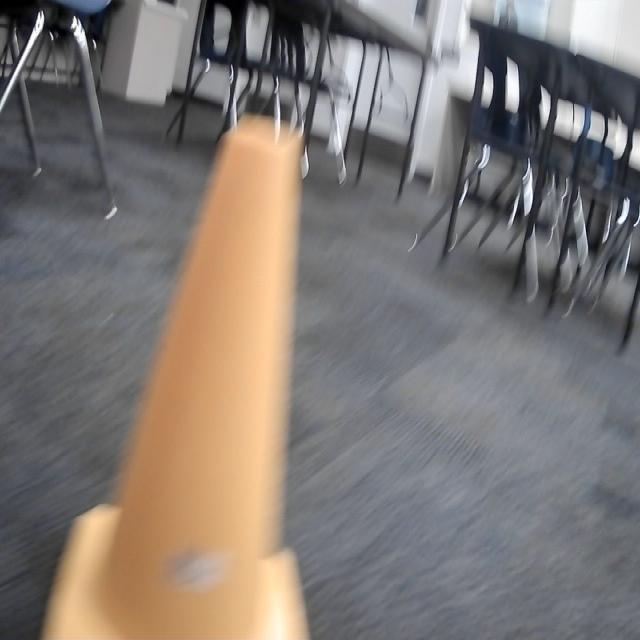cone: (35, 100, 319, 640)
